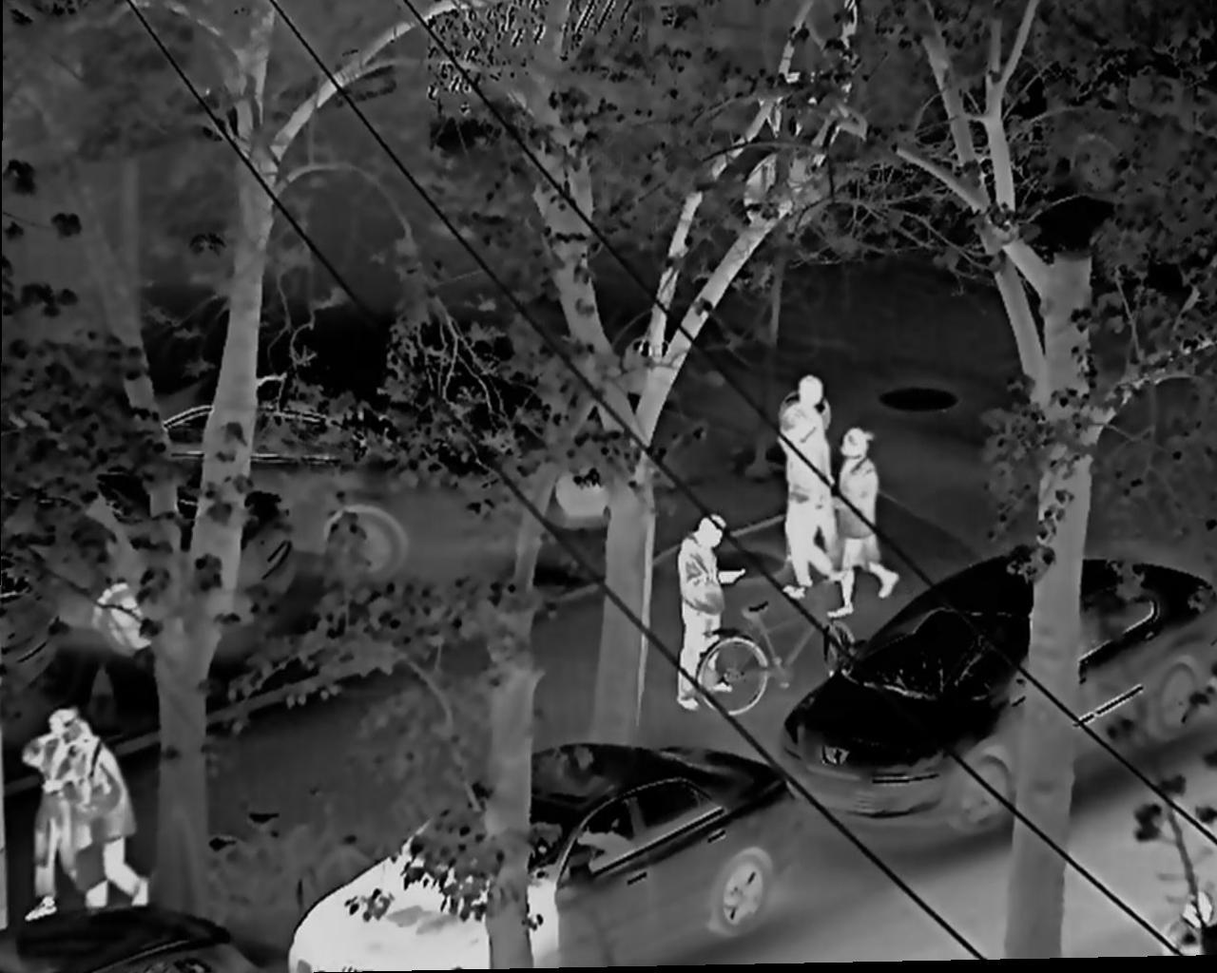person: (665, 513, 748, 711), (68, 718, 147, 911), (829, 424, 901, 619), (778, 372, 835, 602), (21, 701, 80, 914)
